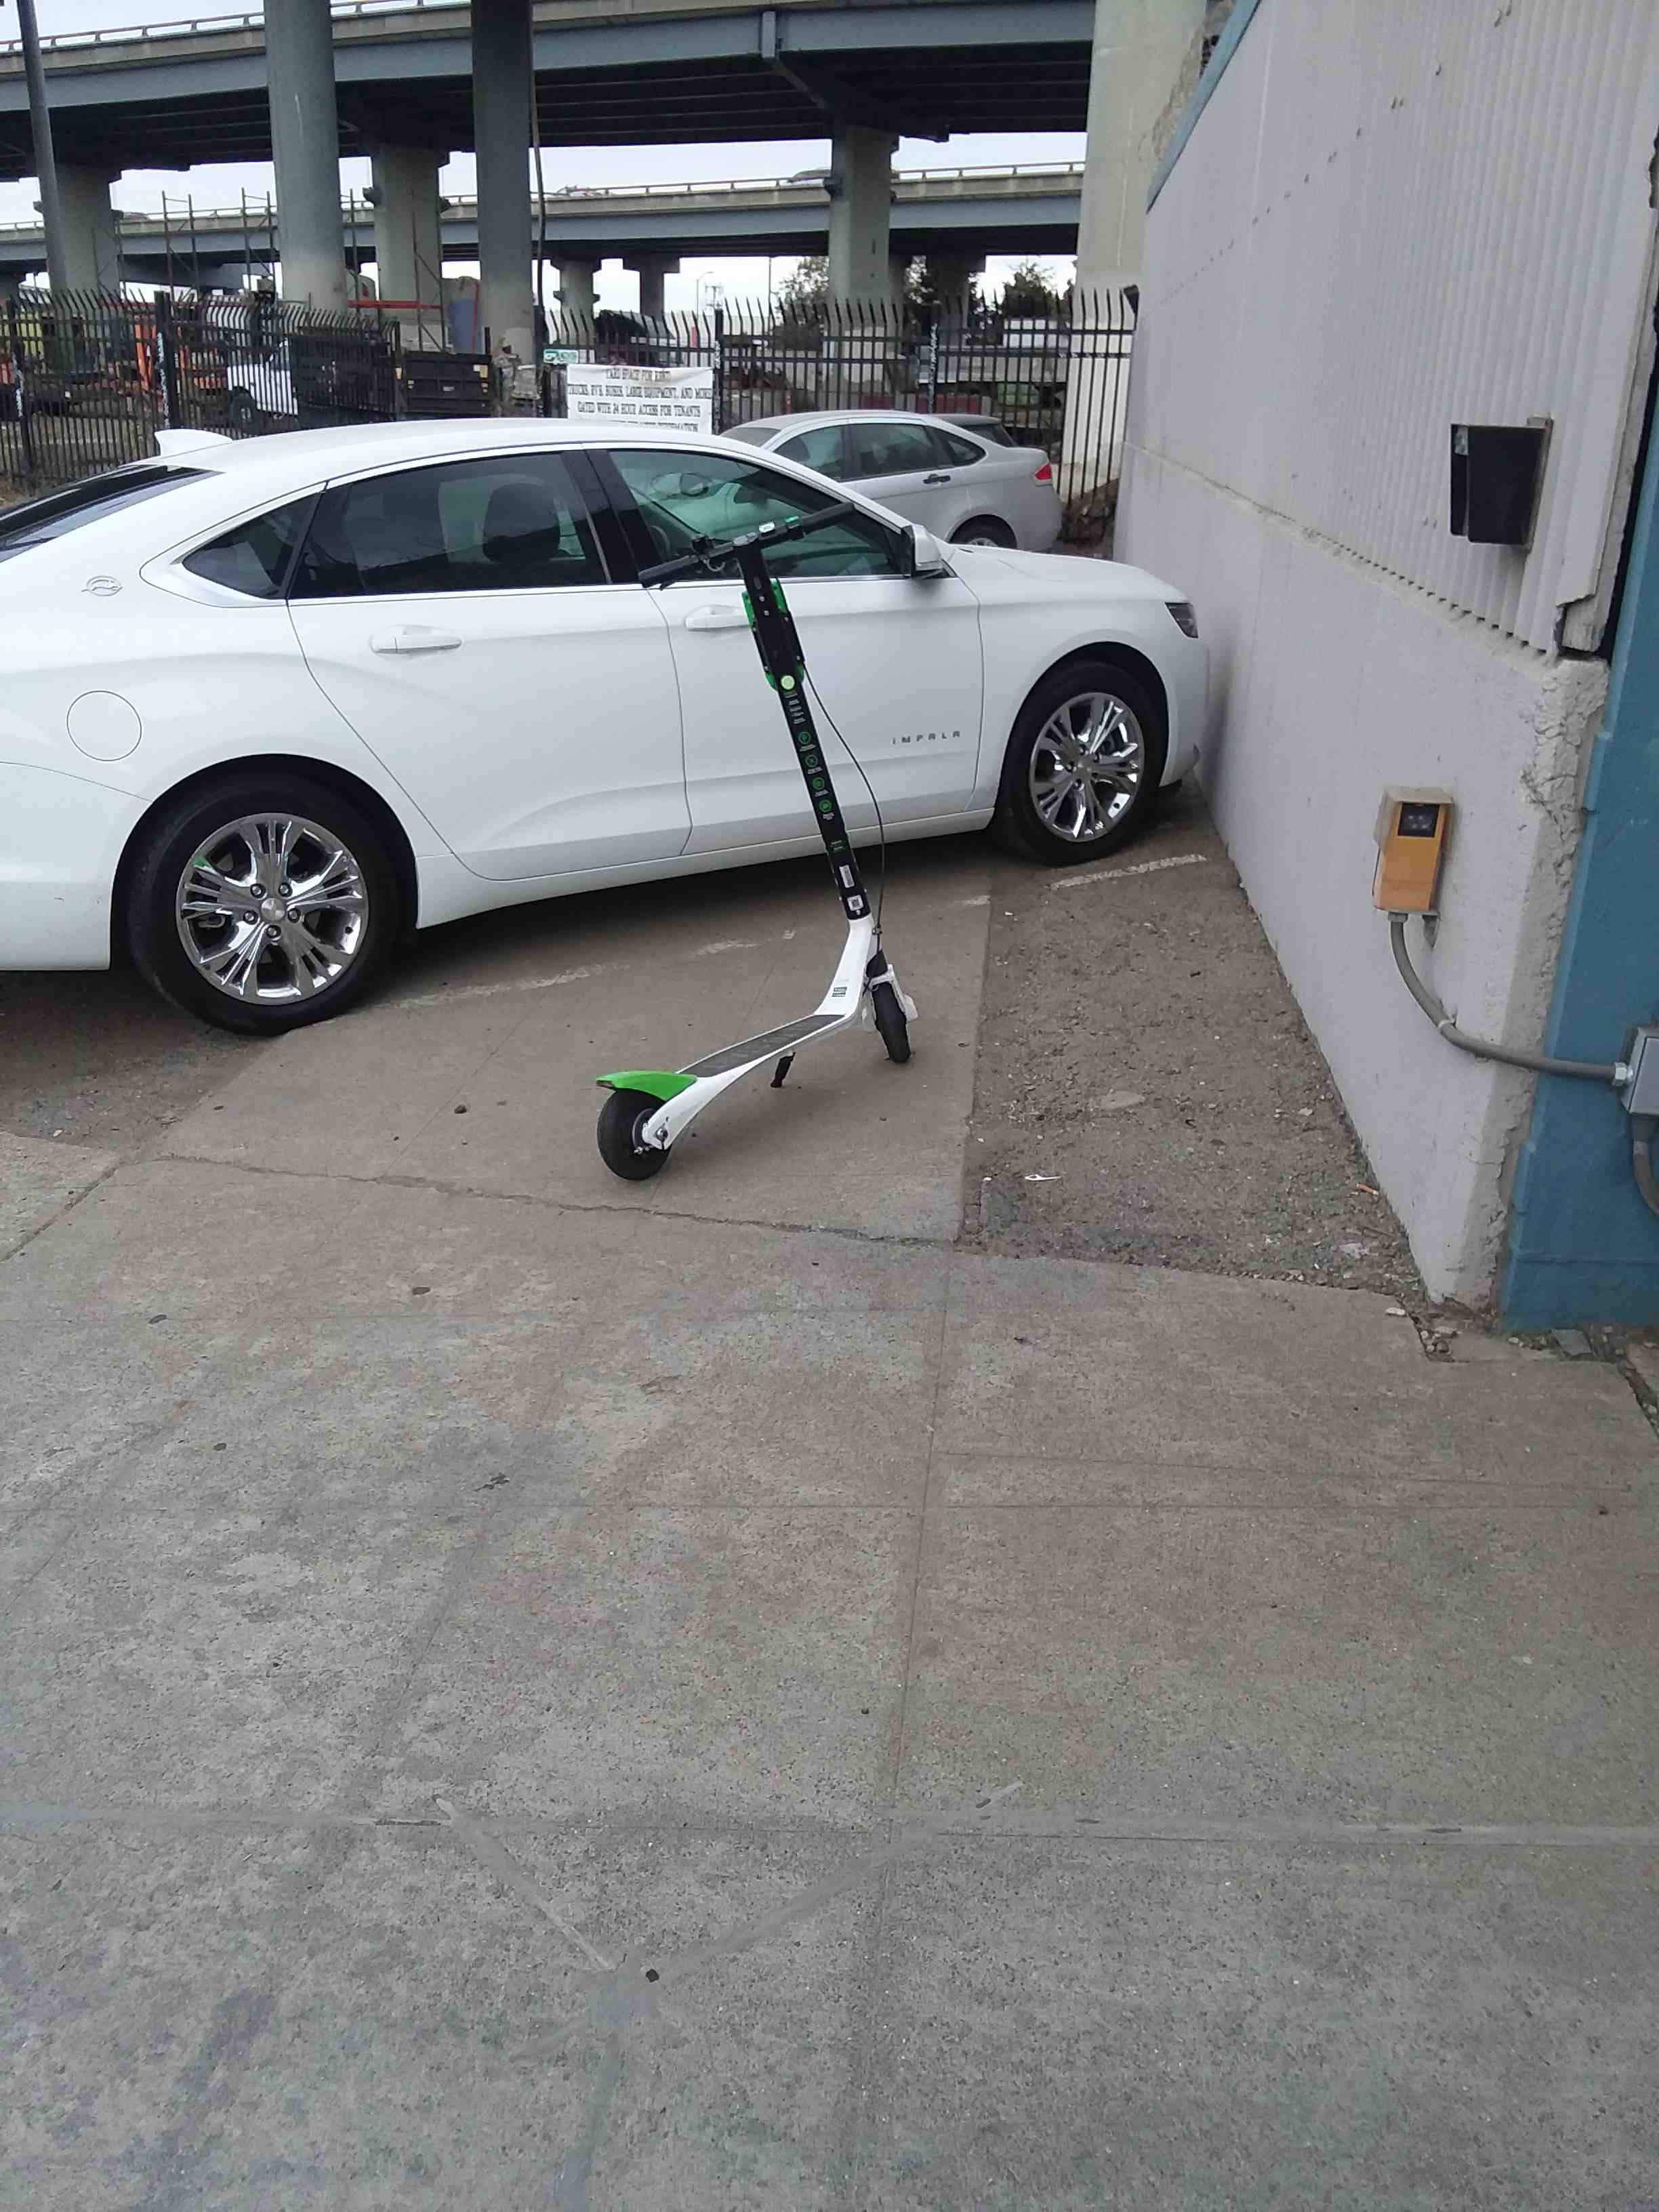scooter: (584, 477, 918, 1240)
